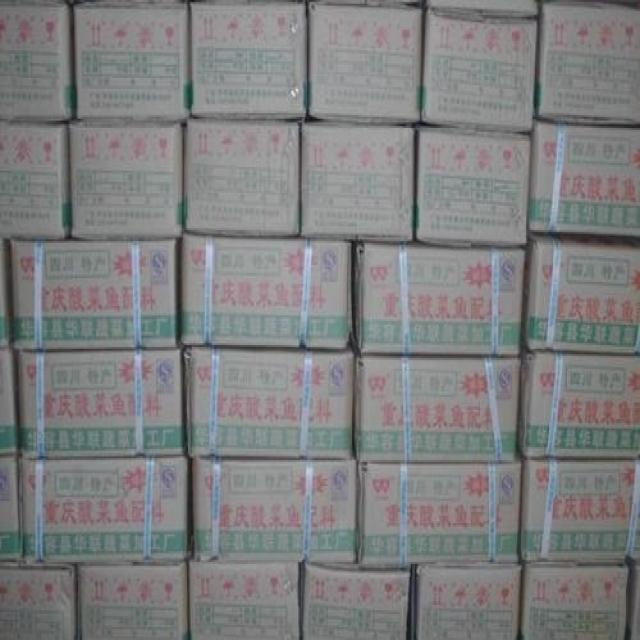box: (183, 341, 357, 460), (183, 230, 352, 351), (8, 237, 182, 349), (188, 454, 357, 568), (356, 243, 525, 356), (356, 352, 521, 464), (22, 456, 191, 564), (19, 347, 189, 453), (355, 460, 520, 568), (72, 0, 192, 124), (308, 2, 425, 128), (183, 119, 307, 237), (301, 121, 417, 245), (531, 115, 640, 245), (522, 237, 639, 358), (517, 351, 640, 464), (422, 11, 538, 130), (413, 128, 532, 243), (191, 0, 305, 117), (535, 0, 640, 126), (72, 119, 184, 237), (520, 454, 640, 564), (189, 560, 305, 640), (0, 0, 74, 122), (78, 560, 188, 640), (0, 121, 74, 239), (298, 564, 412, 640), (411, 564, 522, 640), (522, 562, 627, 640), (0, 564, 78, 640), (0, 454, 26, 564)
